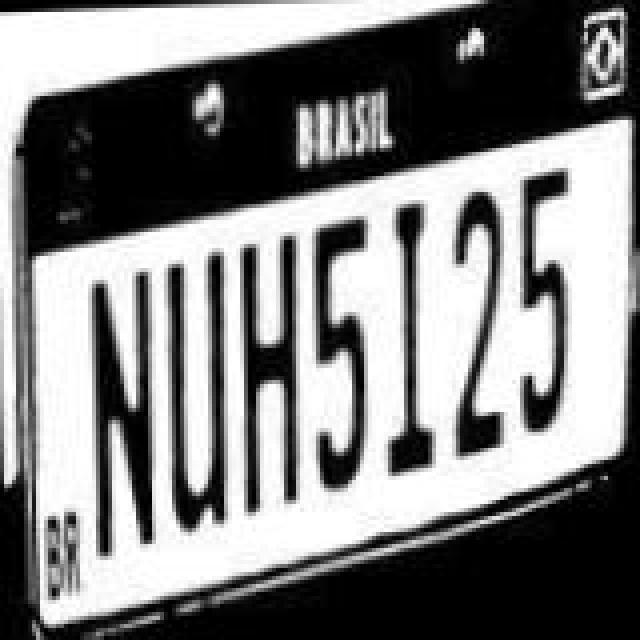2: (438, 164, 518, 452)
5: (304, 194, 380, 482), (514, 148, 586, 420)
H: (230, 214, 314, 506)
I: (372, 176, 448, 468)
N: (84, 254, 168, 566)
U: (154, 230, 238, 534)
